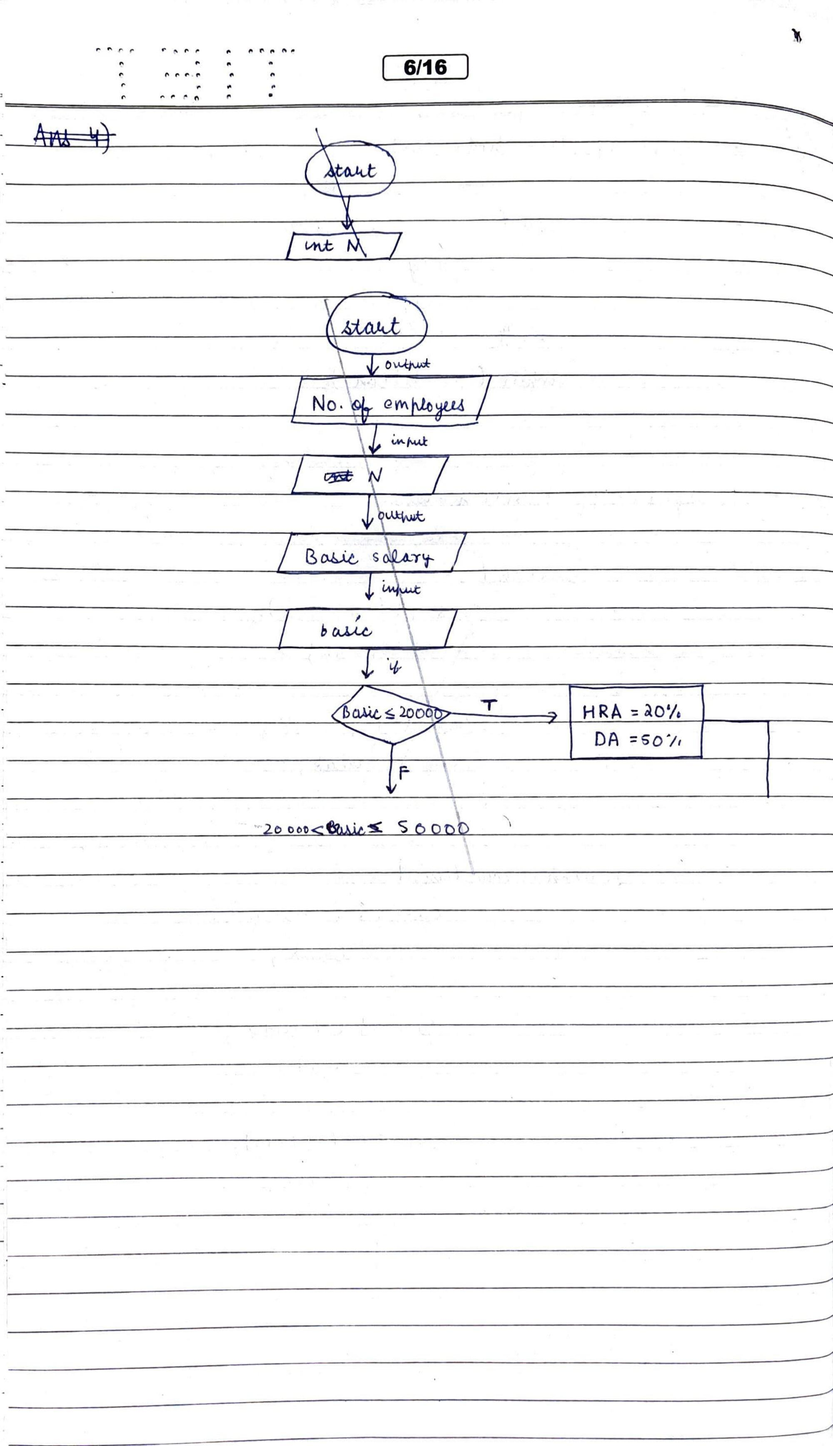cuttings: (260, 288, 786, 876), (280, 133, 409, 271), (26, 119, 120, 148)
